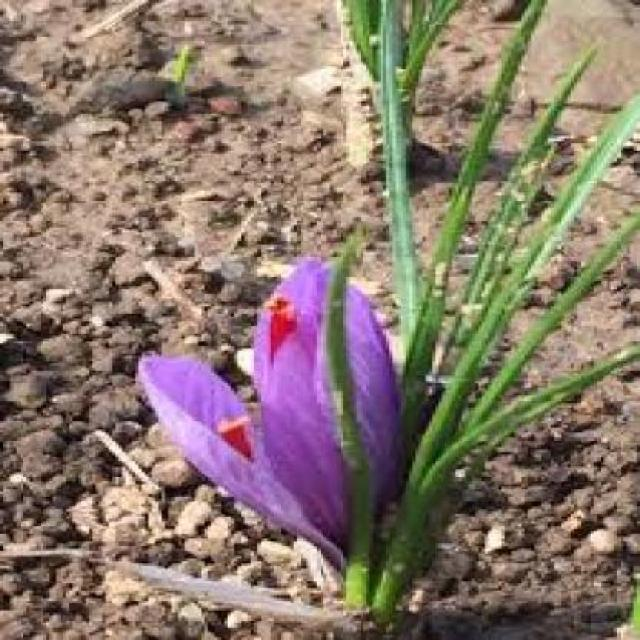Flower: (126, 256, 423, 570)
stigma: (260, 298, 298, 367), (216, 414, 254, 461)
